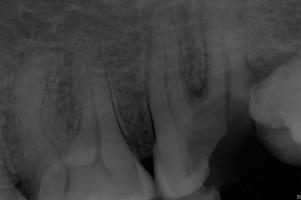Endo-Periodontal Lesion: (189, 76, 207, 99)
